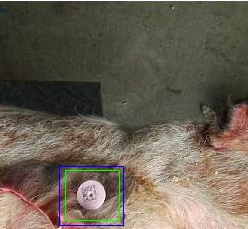text: (65, 170, 119, 220)
